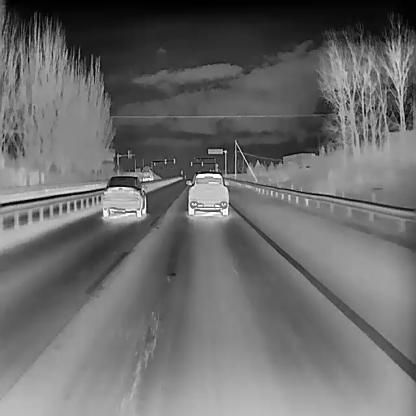car: (100, 174, 147, 217), (184, 171, 228, 215)
truck: (140, 165, 154, 182)
